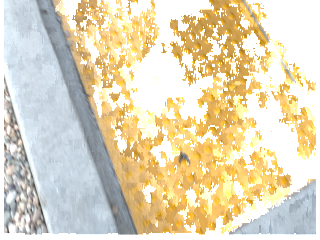Edge: (5, 3, 138, 235)
